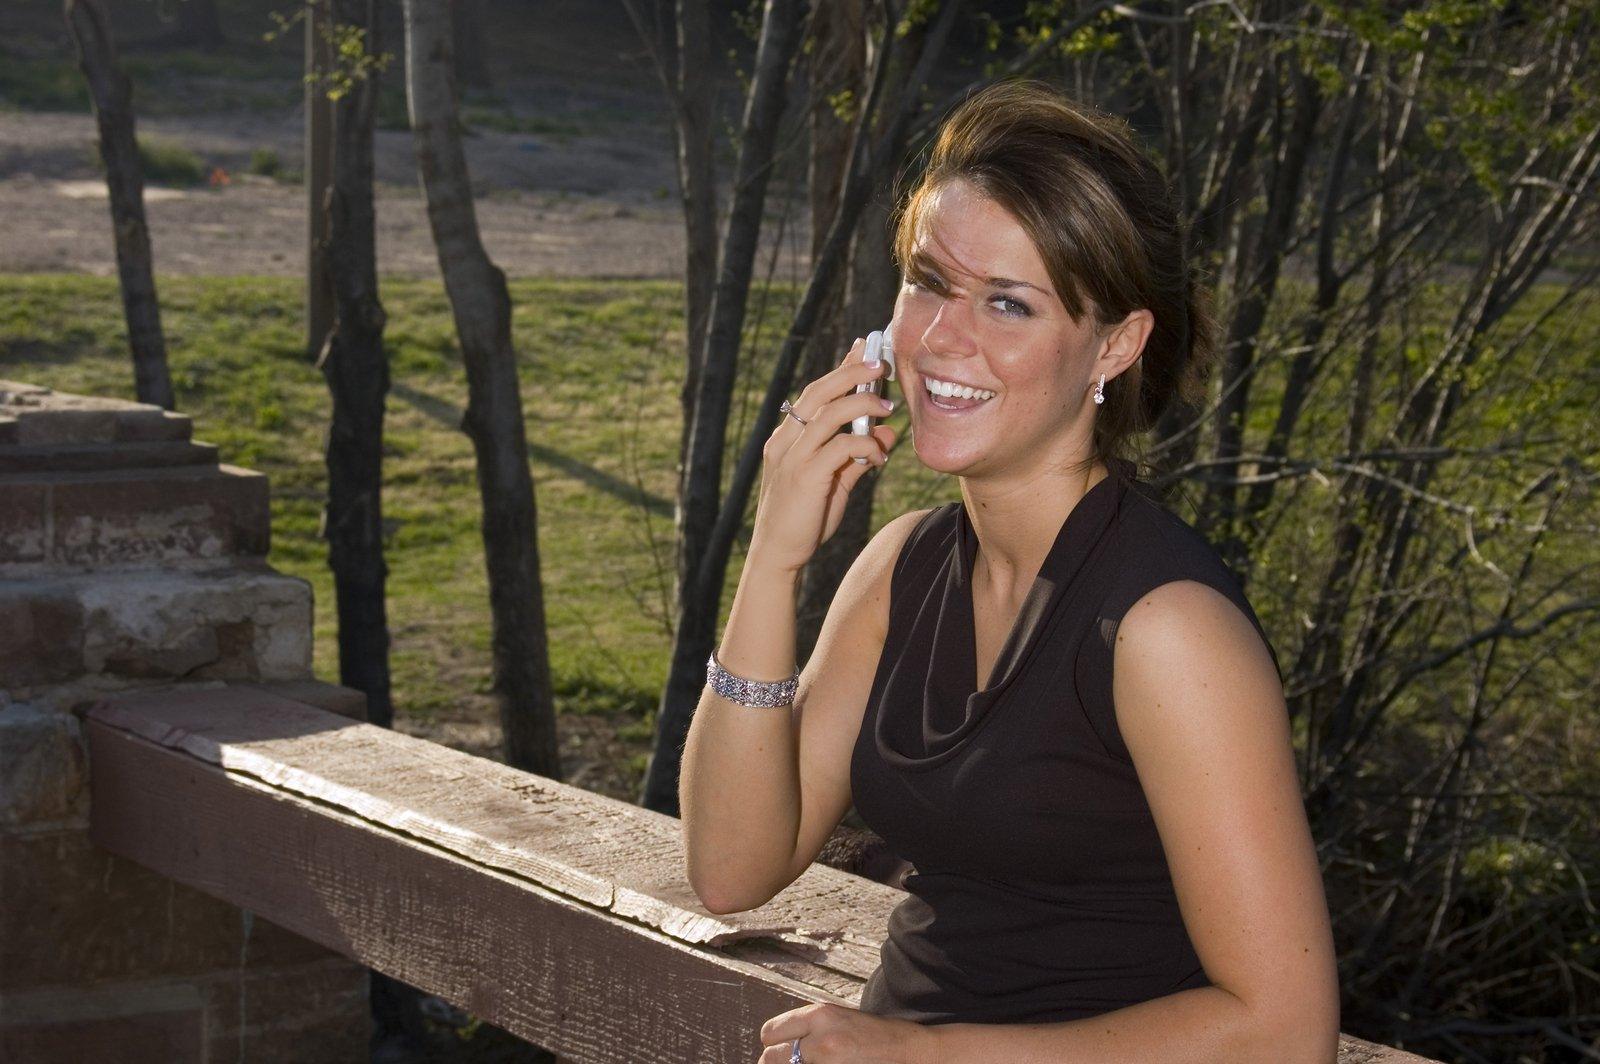phone: (858, 305, 893, 470)
talk: (753, 240, 1060, 602)
